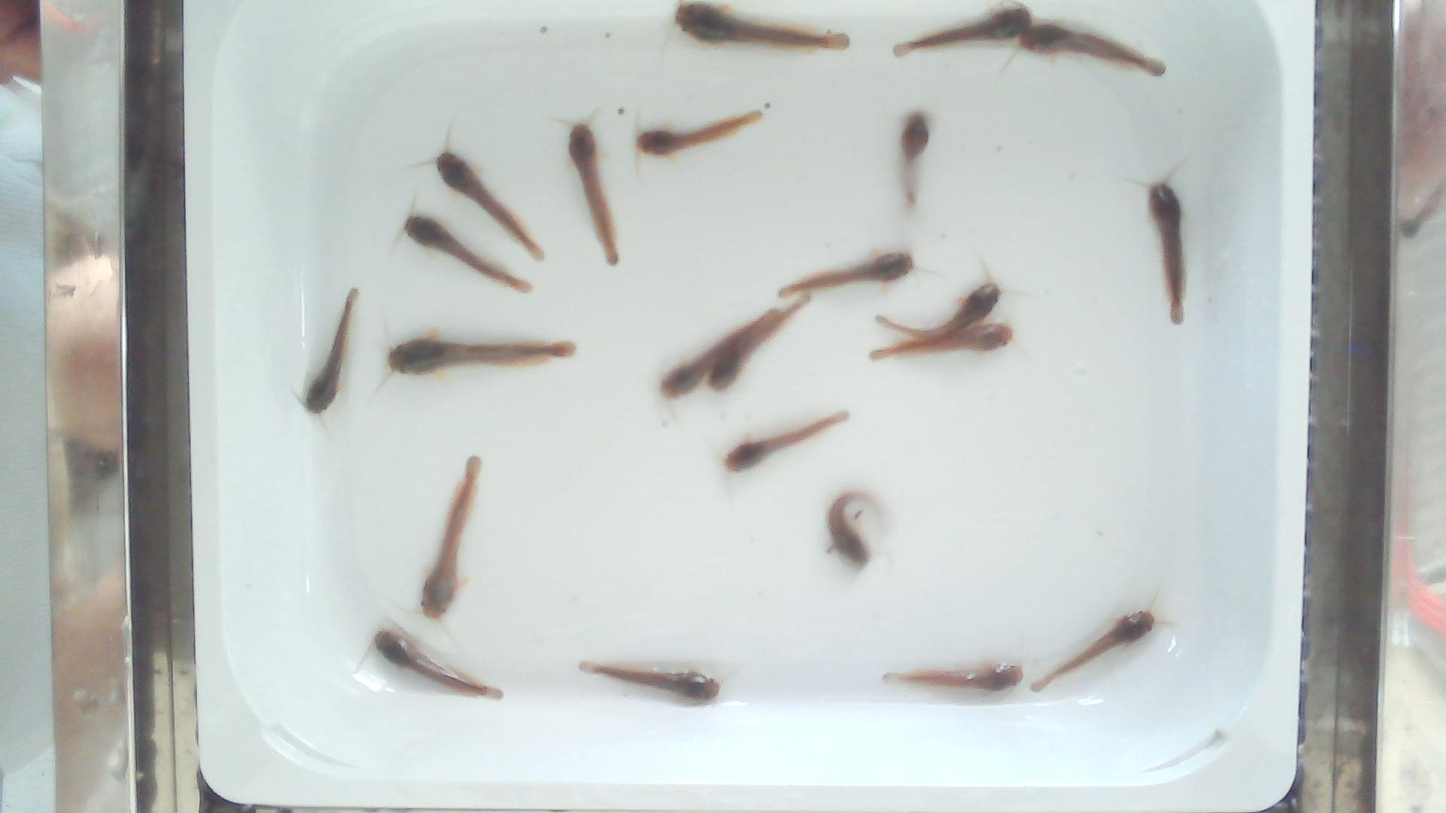lele: (436, 148, 544, 260), (664, 308, 781, 395), (420, 455, 482, 618), (710, 293, 811, 391), (1033, 611, 1156, 690), (404, 215, 530, 291), (373, 626, 502, 699), (675, 0, 850, 52), (389, 331, 575, 374), (1025, 22, 1165, 77), (568, 122, 620, 265), (894, 3, 1033, 56), (723, 414, 847, 472), (303, 288, 358, 413), (880, 283, 1001, 335), (779, 252, 913, 296), (579, 660, 719, 702), (636, 111, 761, 156), (1149, 181, 1186, 324), (869, 324, 1011, 360), (883, 659, 1023, 691), (829, 490, 883, 568), (899, 110, 929, 210)
